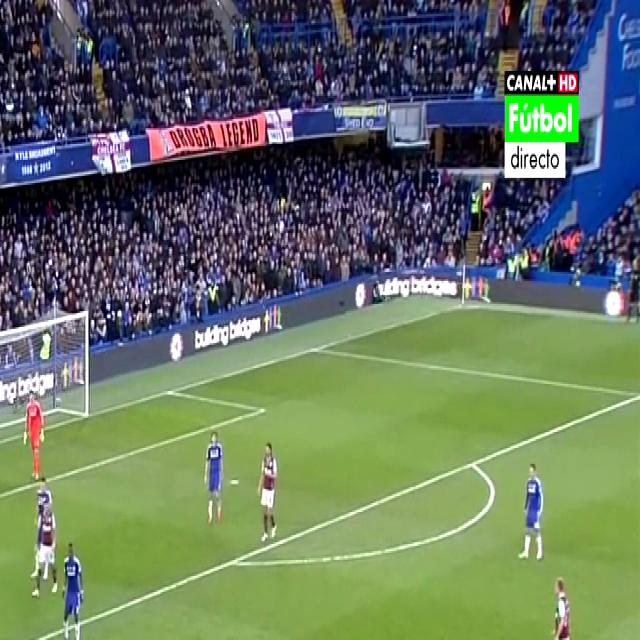goalkeeper: (25, 381, 51, 488)
referee: (331, 638, 366, 640)
soccer-player: (30, 469, 63, 603), (516, 449, 552, 570), (253, 434, 287, 554), (198, 421, 230, 532), (56, 535, 89, 640), (544, 567, 579, 640)
